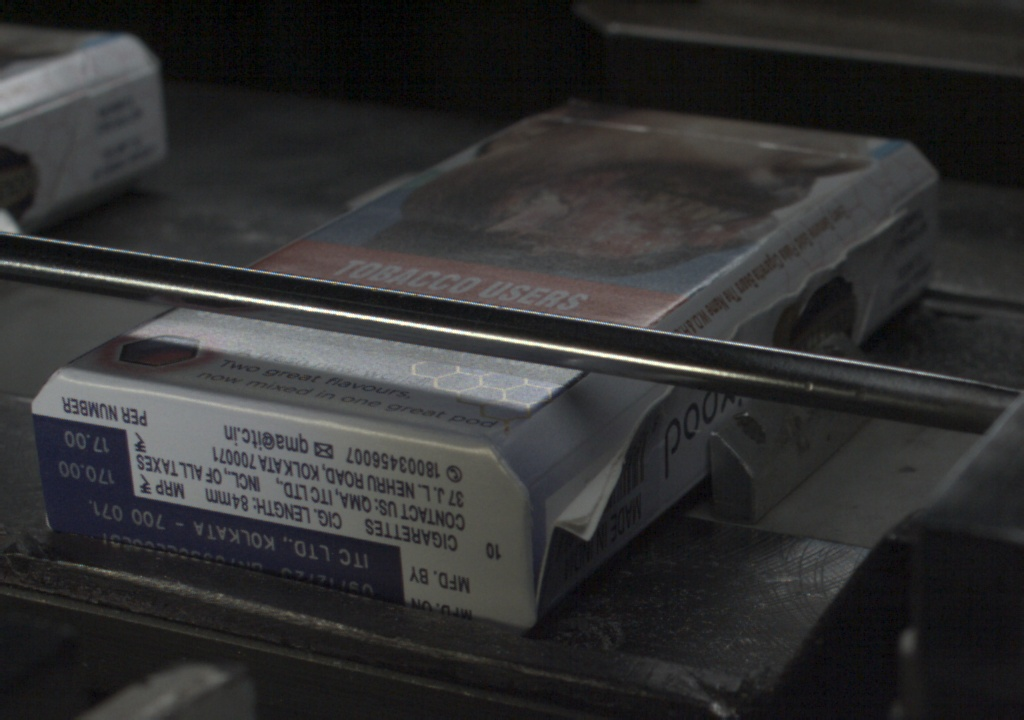g_bottom: (32, 374, 522, 636)
g_label: (45, 501, 402, 605)
g_miter: (890, 170, 936, 209)
ng_lmiter: (538, 433, 632, 542), (802, 212, 882, 275), (725, 276, 802, 335), (626, 385, 663, 427)
price: (36, 425, 131, 500)
